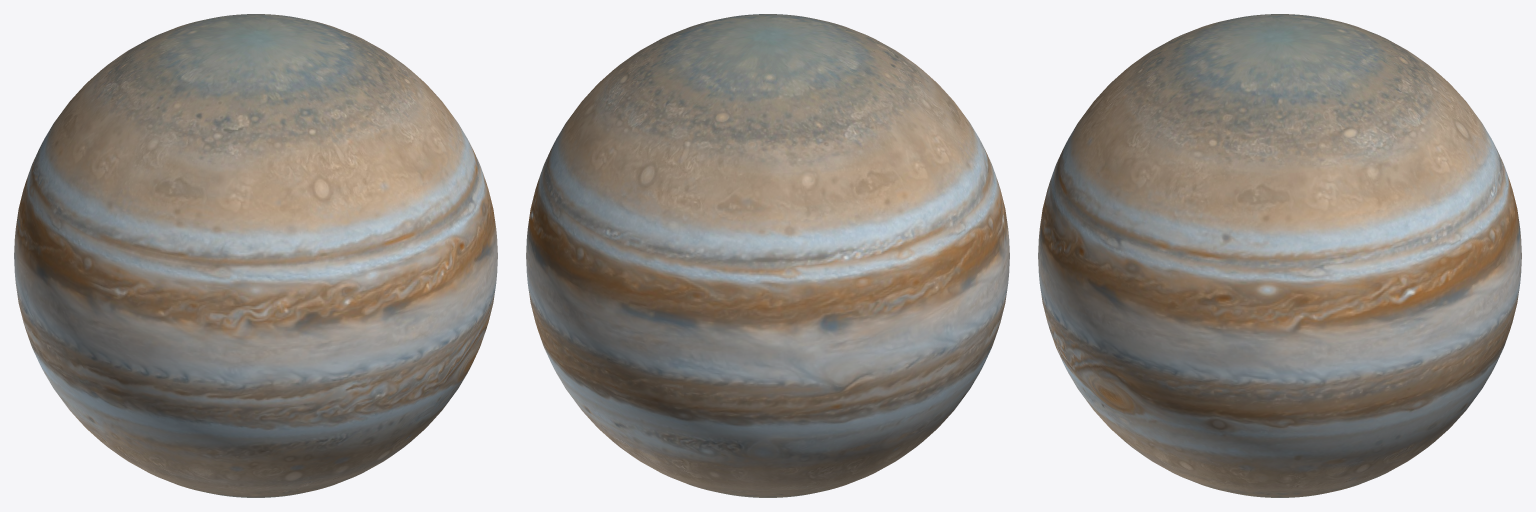
Rendered from jupiter.glb.
The picture shows the model from 3 angles, left to right: view 1: azimuth 30°, elevation 25°; view 2: azimuth 150°, elevation 25°; view 3: azimuth 270°, elevation 25°; orthographic projection.
Size of the model in its own units: 2 by 2 by 2.
Materials: 1 (1 with a texture image).
